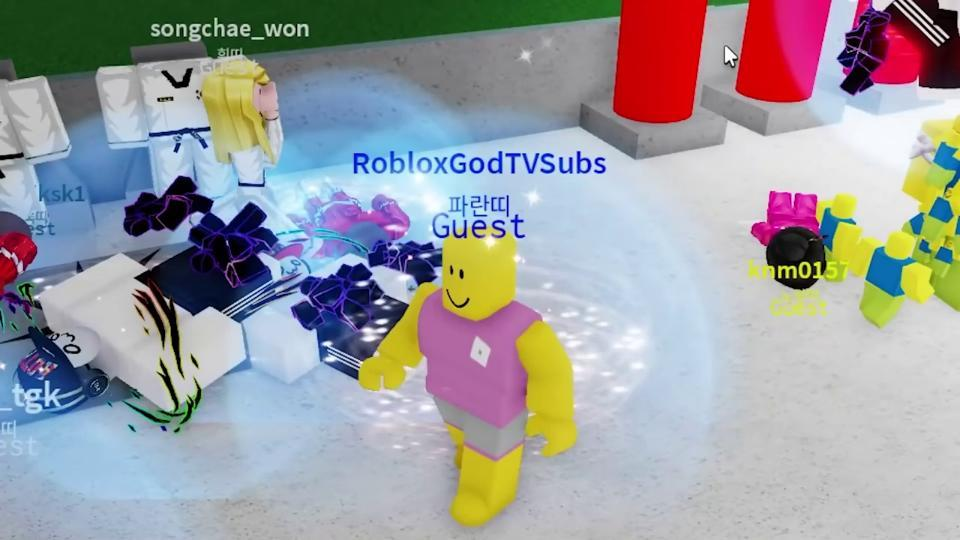Character: (360, 226, 578, 527), (13, 243, 283, 413), (186, 59, 323, 265), (750, 189, 830, 291)
